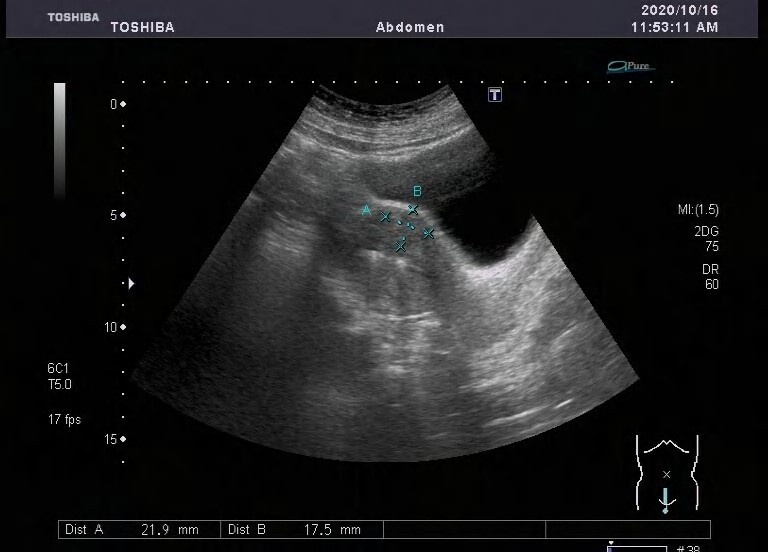肌瘤: (386, 213, 426, 244)
